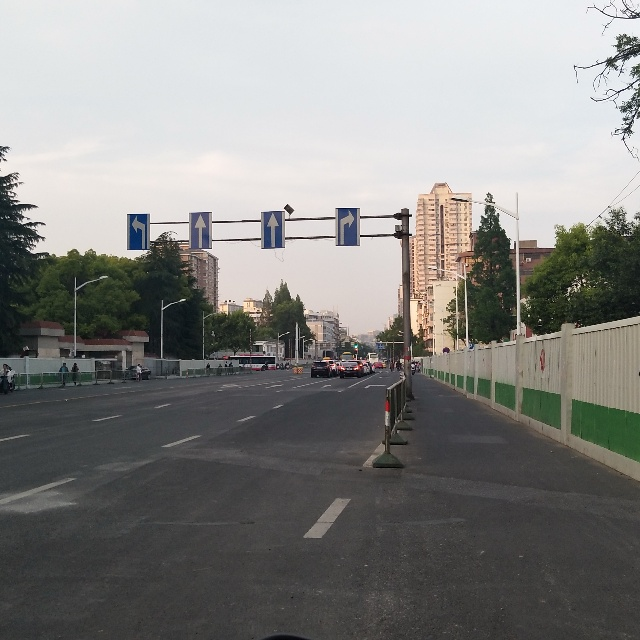left: (127, 213, 150, 248)
right: (336, 209, 360, 249)
straight: (262, 212, 288, 251), (190, 214, 214, 249)
